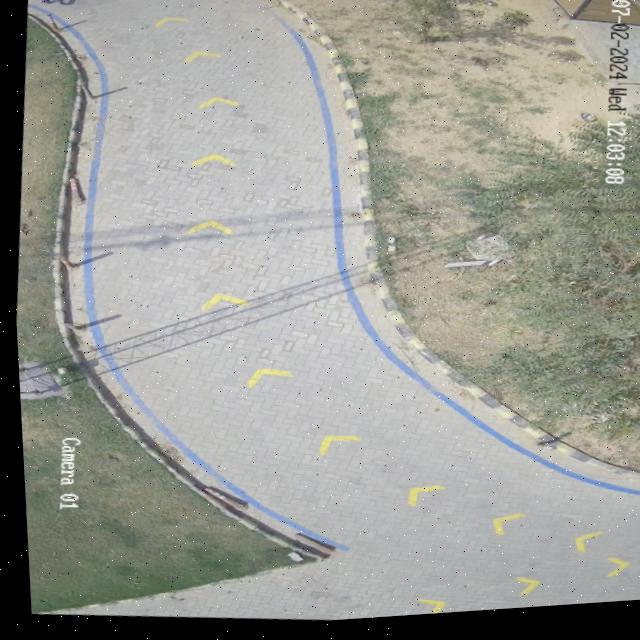No Car: (12, 0, 640, 624)
